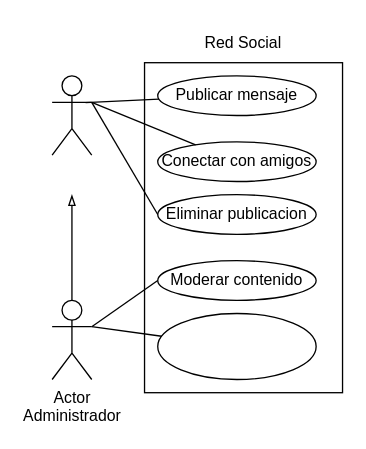
This 366x449 diagram has some shape labels left out. The centre of each missing label's shape, as x and y in pixels:
"Actor Usuario" goes at [71,115].
"Gestionar configuraciones avanzadas" goes at [236,346].
